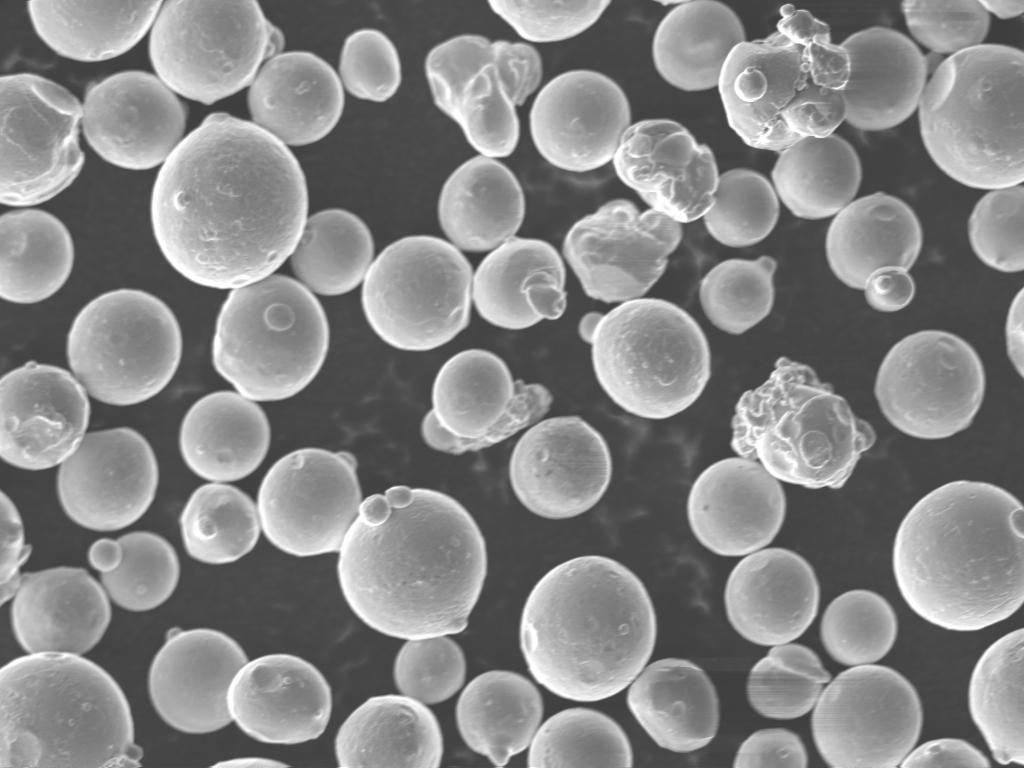Powder: (718, 4, 926, 151), (152, 114, 308, 287), (338, 486, 486, 639), (520, 556, 656, 701), (894, 480, 1024, 630), (732, 358, 876, 488), (0, 652, 142, 766), (578, 298, 710, 417), (212, 274, 330, 402), (920, 44, 1024, 189), (424, 34, 542, 157), (150, 0, 284, 103), (422, 350, 552, 454), (68, 290, 182, 405), (362, 236, 472, 350), (562, 200, 682, 302), (874, 330, 986, 438), (826, 192, 922, 311), (812, 664, 922, 766), (258, 448, 362, 555), (0, 76, 84, 205), (614, 120, 718, 222), (148, 628, 248, 734), (56, 428, 158, 531), (510, 416, 612, 518), (82, 70, 186, 170), (510, 418, 612, 518), (530, 70, 630, 171), (0, 362, 90, 470), (688, 458, 786, 556), (724, 548, 820, 646), (228, 654, 332, 744), (248, 52, 344, 146), (10, 566, 112, 654), (652, 0, 746, 91), (628, 660, 720, 752), (456, 670, 544, 766), (472, 240, 566, 329), (28, 0, 162, 62), (438, 156, 524, 252), (180, 392, 270, 482), (336, 694, 442, 767), (772, 134, 862, 219), (968, 628, 1024, 764), (290, 208, 374, 296), (88, 532, 180, 611), (0, 208, 74, 304), (182, 484, 260, 564), (528, 708, 632, 768), (748, 644, 832, 717), (704, 168, 780, 248), (700, 256, 776, 334), (820, 590, 898, 666), (488, 1, 610, 42), (394, 636, 464, 704), (968, 187, 1024, 272), (902, 0, 990, 53), (338, 30, 402, 101), (1, 490, 32, 605), (734, 728, 808, 768), (900, 738, 990, 768), (1006, 288, 1024, 377), (210, 756, 288, 767), (980, 0, 1024, 19)
